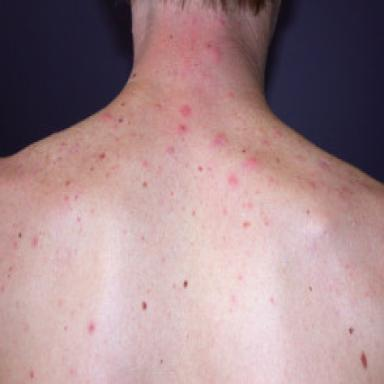acne: (242, 157, 261, 169), (213, 133, 228, 146), (213, 44, 221, 63), (180, 104, 191, 116), (228, 175, 238, 187), (101, 113, 112, 123), (178, 124, 187, 135), (32, 235, 38, 248), (308, 180, 316, 188), (274, 129, 282, 137), (167, 146, 174, 155), (155, 100, 161, 110), (89, 323, 95, 332), (262, 139, 269, 146), (247, 202, 253, 209), (142, 160, 148, 167), (223, 208, 227, 216), (228, 92, 234, 97), (74, 195, 79, 201), (113, 124, 118, 130), (115, 137, 120, 142), (77, 217, 81, 222)
